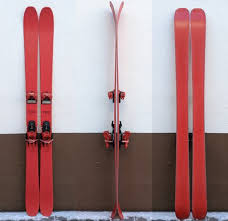skis: (170, 8, 208, 221), (22, 6, 59, 218)
